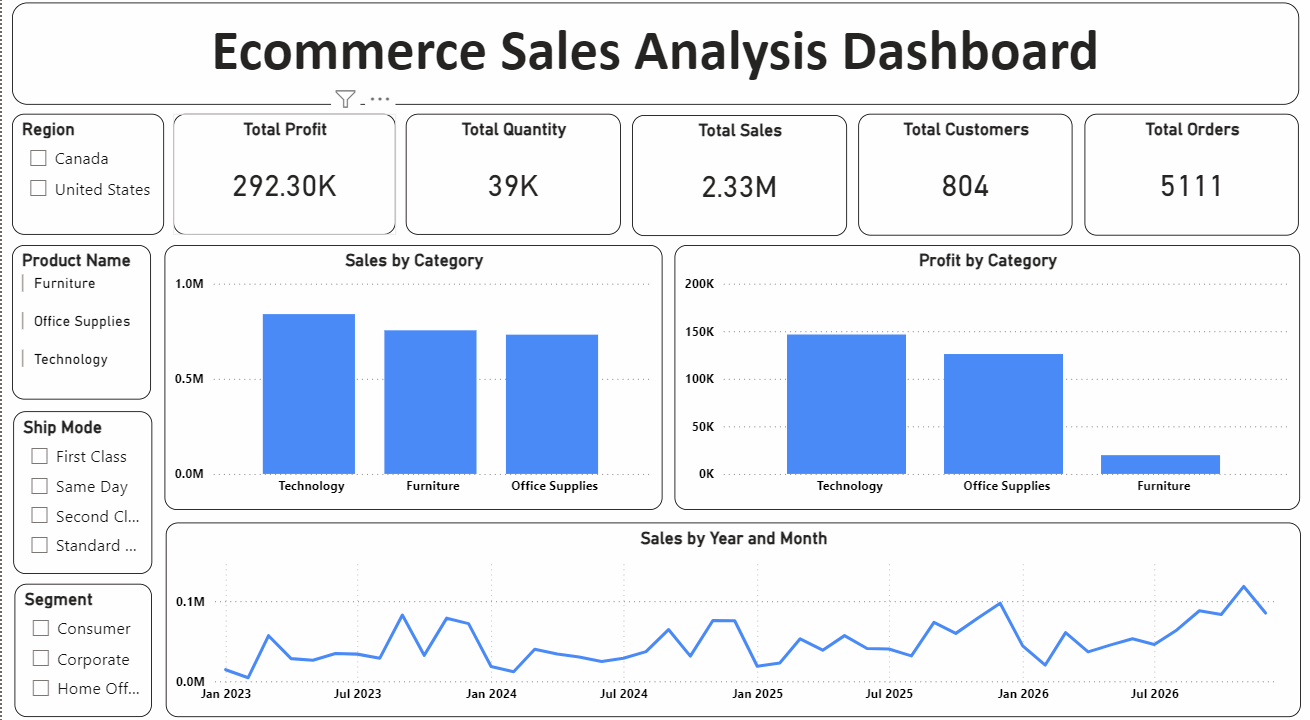

What the dashboard file says about the page in this screenshot:
{"tool":"powerbi","page":{"name":"Page 1","canvas":[1280,720],"ordinal":0},"visuals":[{"type":"textbox","box":[9.6,12.3,1259,100],"z":0},{"type":"card","title":"Total Sales","fields":{"Values":["Sum(samplesuperstore_Cleaned.Sales)"]},"box":[616.3,122.3,210.3,118.6],"z":1000},{"type":"card","title":"Total Profit","fields":{"Values":["Sum(samplesuperstore_Cleaned.Profit)"]},"box":[167.5,121.1,217.7,118.6],"z":2000},{"type":"card","title":"Total Orders","fields":{"Values":["Count(samplesuperstore_Cleaned.Order ID)"]},"box":[1059.4,120.8,209.9,119.4],"z":3000},{"type":"card","title":"Total Customers","fields":{"Values":["Count(samplesuperstore_Cleaned.Customer ID)"]},"box":[837.1,120.8,209.9,119.4],"z":4000},{"type":"card","title":"Total Quantity","fields":{"Values":["Sum(samplesuperstore_Cleaned.Quantity)"]},"box":[395,121.1,210.3,118.6],"z":5000},{"type":"slicer","title":"Region","fields":{"Values":["samplesuperstore_Cleaned.Country/Region"]},"box":[9.8,121.1,149.2,118.6],"z":6000},{"type":"multiRowCard","title":"Product Name","fields":{"Values":["samplesuperstore_Cleaned.Category"]},"box":[9.6,249.7,135.8,150.9],"z":7000},{"type":"slicer","title":"Ship Mode","fields":{"Values":["samplesuperstore_Cleaned.Ship Mode"]},"box":[11,411.7,135.8,159.2],"z":8000},{"type":"slicer","title":"Segment","fields":{"Values":["samplesuperstore_Cleaned.Segment"]},"box":[12.3,580.4,134.5,130.4],"z":9000},{"type":"columnChart","title":"Sales by Category","fields":{"Category":["samplesuperstore_Cleaned.Category"],"Y":["Sum(samplesuperstore_Cleaned.Sales)"]},"box":[159.2,249.7,487.1,259.3],"z":10000},{"type":"columnChart","title":"Profit by Category","fields":{"Category":["samplesuperstore_Cleaned.Category"],"Y":["Sum(samplesuperstore_Cleaned.Profit)"]},"box":[657.3,249.7,612,259.3],"z":11000},{"type":"lineChart","title":"Sales by Year and Month","fields":{"Y":["Sum(samplesuperstore_Cleaned.Sales)"],"Category":["samplesuperstore_Cleaned.Order Date.Variation.Date Hierarchy.Year","samplesuperstore_Cleaned.Order Date.Variation.Date Hierarchy.Month"]},"box":[160.2,520.9,1110.3,190.8],"z":12000}]}

Visuals, with their boxes in screenshot pixels (x1, y1, x2, y2), scaled from the page's 1280x720 canvas onto the 1310x720 screenshot:
textbox: [10, 12, 1298, 112]
"Total Sales" card: [631, 122, 846, 241]
"Total Profit" card: [171, 121, 394, 240]
"Total Orders" card: [1084, 121, 1299, 240]
"Total Customers" card: [857, 121, 1072, 240]
"Total Quantity" card: [404, 121, 619, 240]
"Region" slicer: [10, 121, 163, 240]
"Product Name" multiRowCard: [10, 250, 149, 401]
"Ship Mode" slicer: [11, 412, 150, 571]
"Segment" slicer: [13, 580, 150, 711]
"Sales by Category" columnChart: [163, 250, 661, 509]
"Profit by Category" columnChart: [673, 250, 1299, 509]
"Sales by Year and Month" lineChart: [164, 521, 1300, 712]
